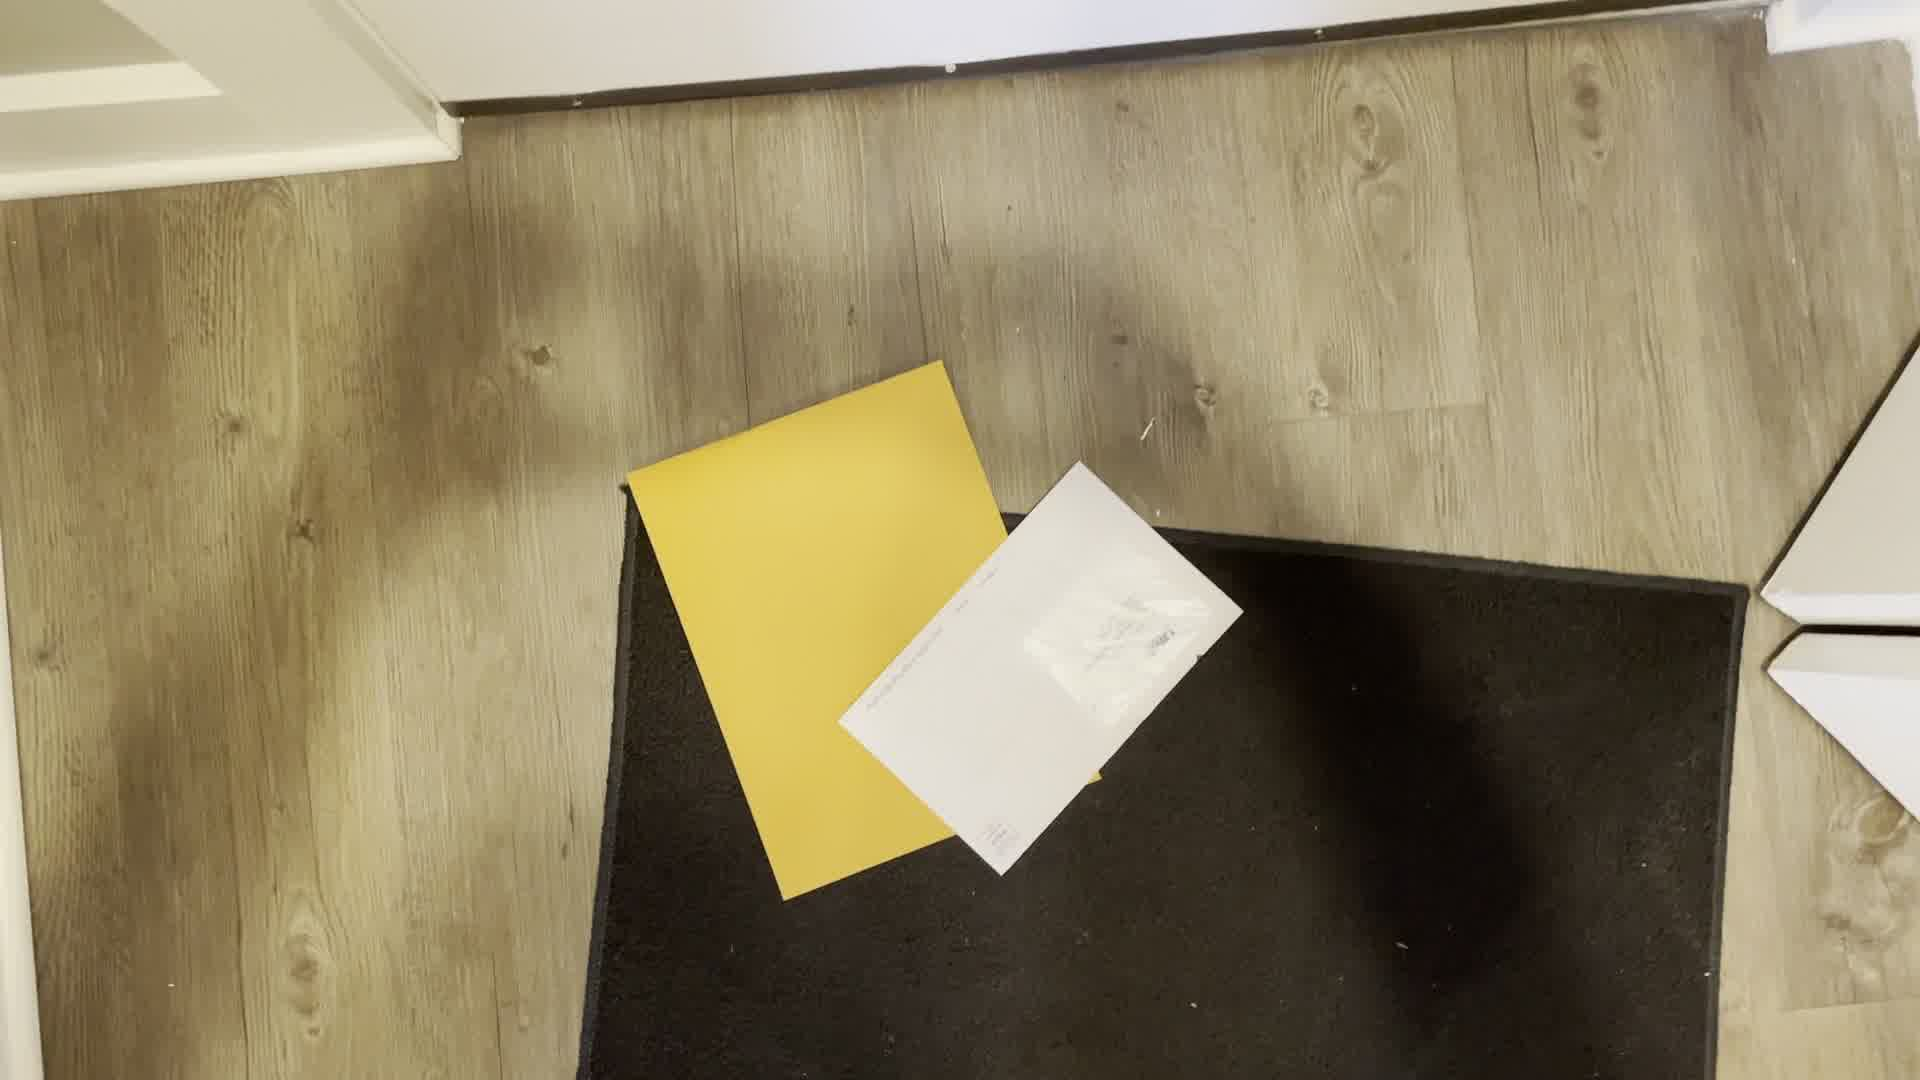envelope: (624, 355, 1022, 906), (829, 458, 1247, 876)
